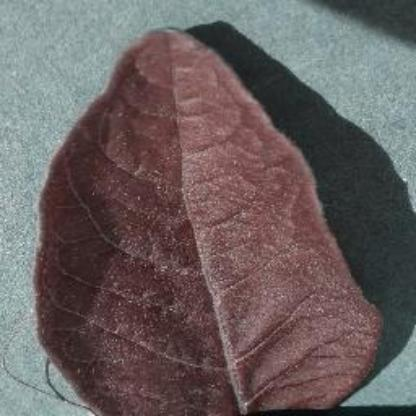Healthy-plant: (9, 44, 380, 387)
